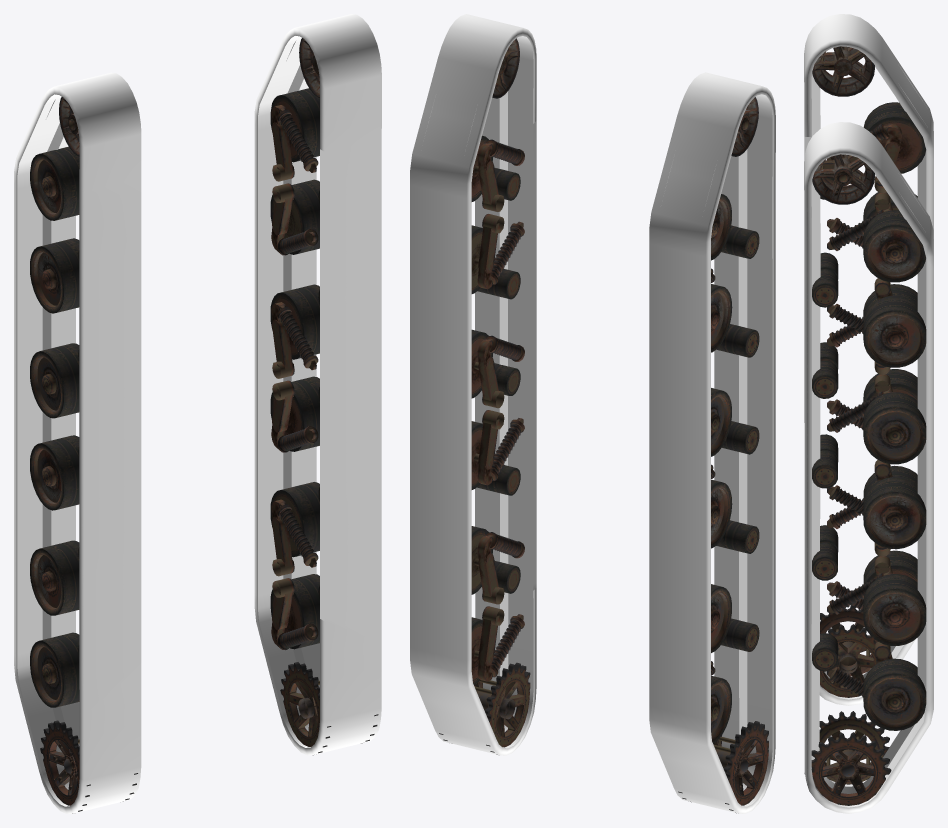
File: Chassis_03.glb
3 renders of one model, left to right at view 1: azimuth 30°, elevation 25°; view 2: azimuth 150°, elevation 25°; view 3: azimuth 270°, elevation 25°, orthographic. The views are drawn at different scales.
Parts seen in each view (by area): view 1: set_0_group_0, set_1_group_0, set_3_group_0, set_2_group_0; view 2: set_0_group_0, set_1_group_0, set_3_group_0, set_2_group_0; view 3: set_3_group_0, set_1_group_0, set_2_group_0, set_0_group_0.
Part boxes in pixels (x1,y1,x2,y2): set_0_group_0: (14,72,141,813); set_1_group_0: (254,14,381,755); set_3_group_0: (270,38,378,755); set_2_group_0: (30,97,137,813); set_0_group_0: (649,72,775,813); set_1_group_0: (410,14,536,755); set_3_group_0: (439,38,530,754); set_2_group_0: (678,97,768,813); set_3_group_0: (804,154,926,805); set_1_group_0: (804,122,933,813); set_2_group_0: (812,46,926,697); set_0_group_0: (804,14,933,705).
Bounding box in the file's own units: 3.04 × 7.04 × 1.24.
4 materials, 2 textured.
